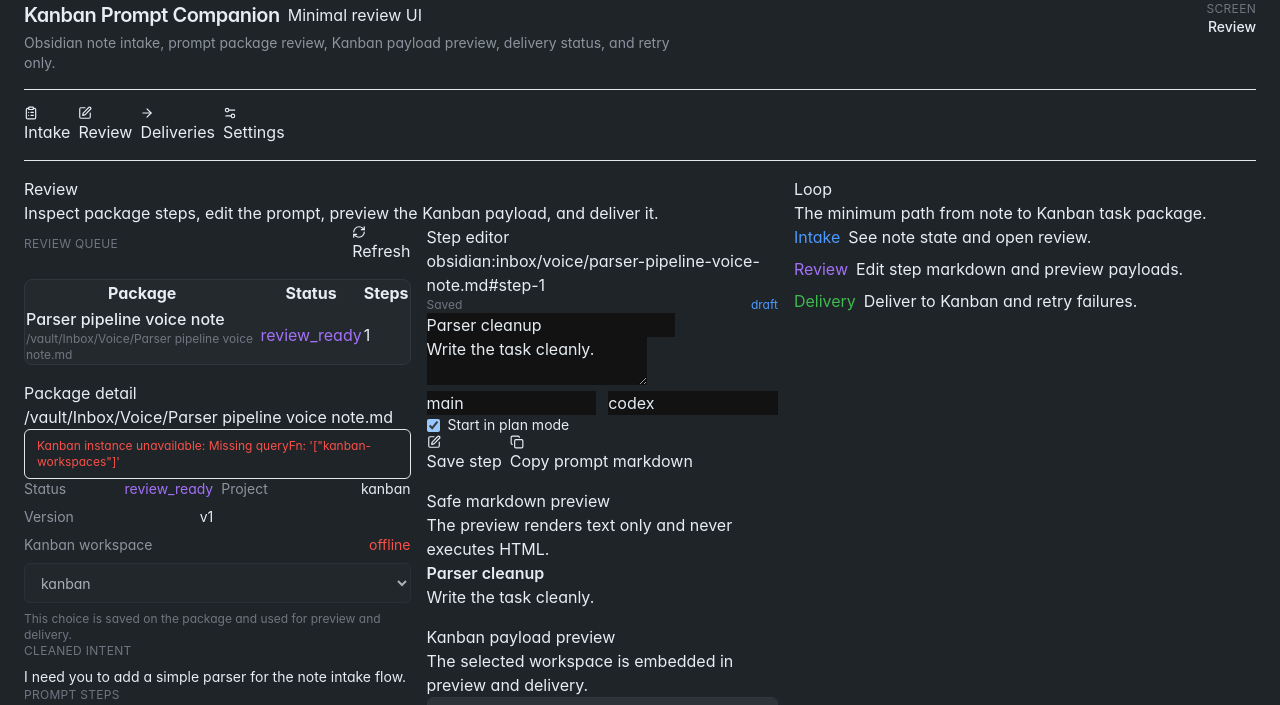
Test: phase 7 review and delivery loop › lets a user open review, edit, preview, and deliver a package
Replace the text in the text box named "Prompt markdown" with "Rewrite the parser step with the updated constraint." at (536, 361), box left=426, top=337, right=646, bottom=385
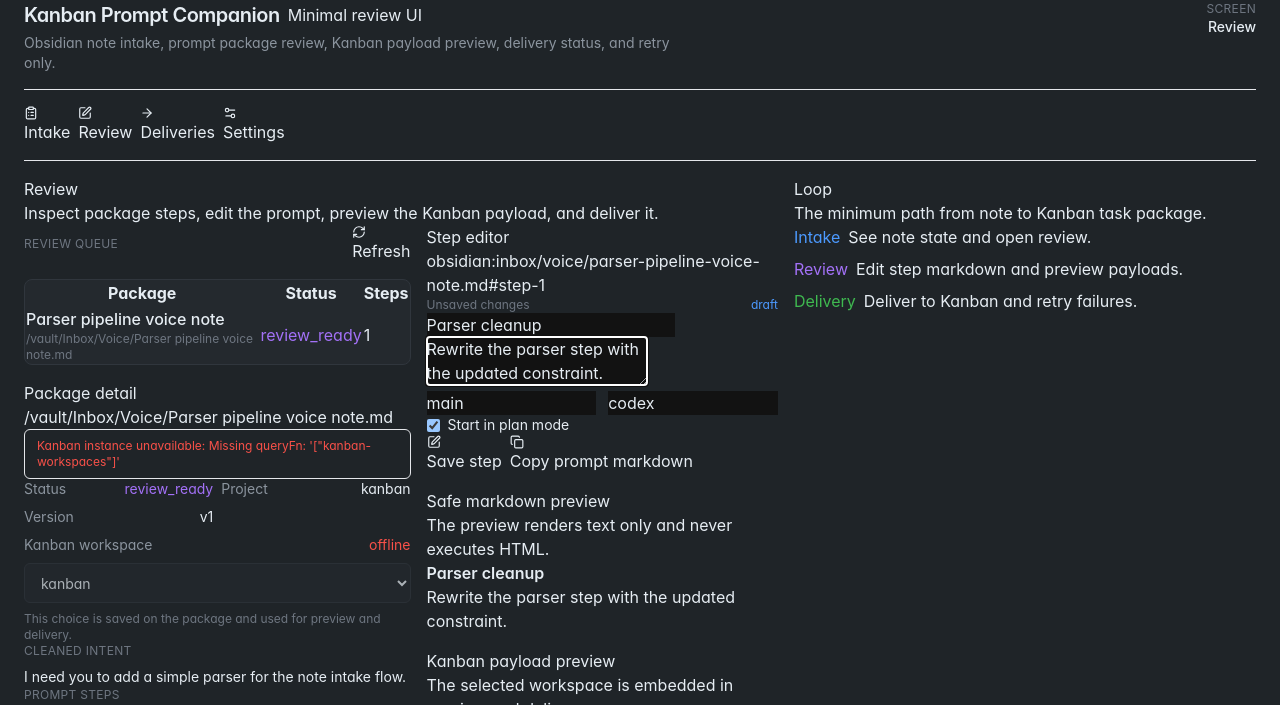
Click the button "Save step".
click(464, 454)  # box left=426, top=435, right=502, bottom=473
(page scrolled)
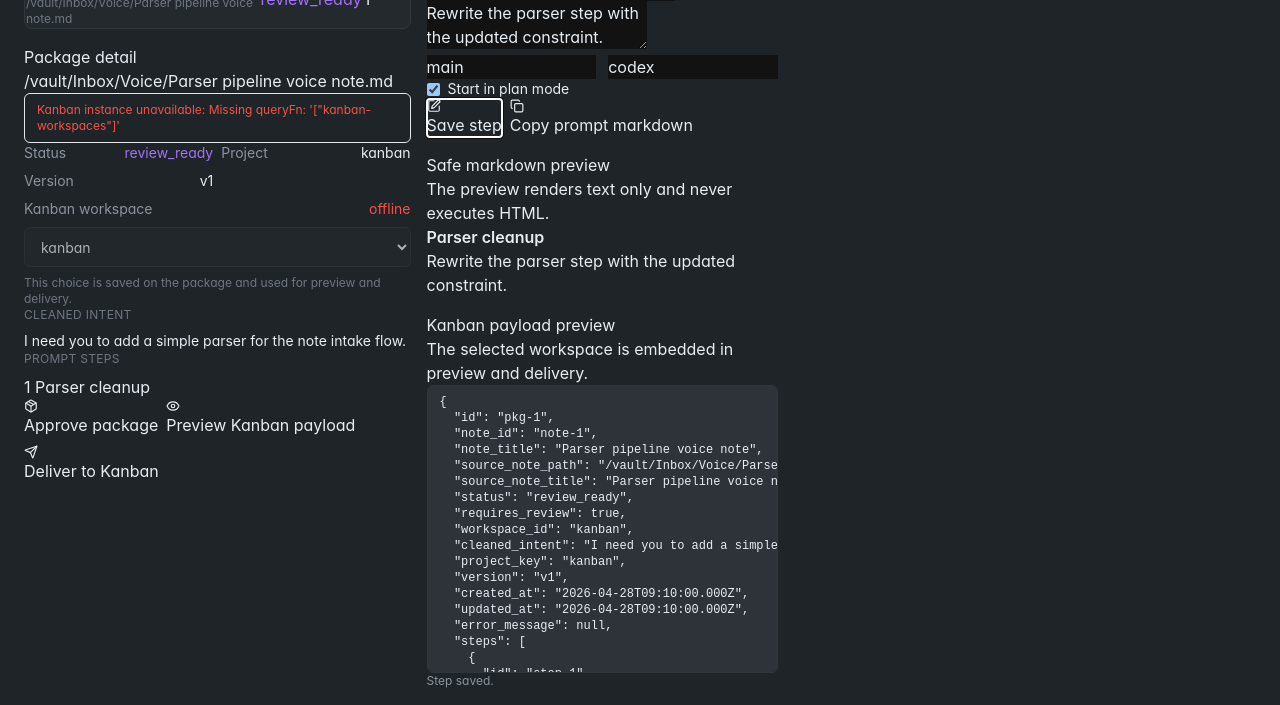
Click the button "Preview Kanban payload".
click(261, 418)  # box left=166, top=399, right=355, bottom=437
(page scrolled)
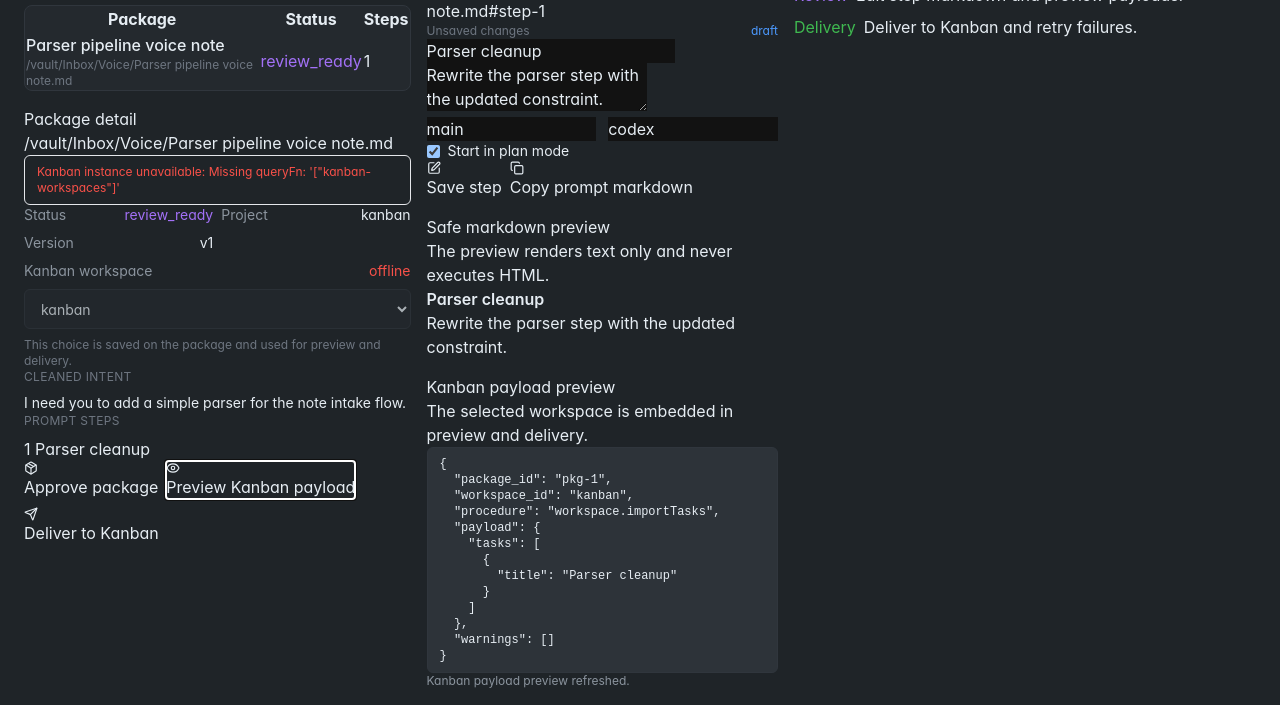
Now the text "workspace.importTasks" is shown, box left=440, top=457, right=720, bottom=663
Click the button "Deliver to Kanban".
click(91, 526)  # box left=24, top=507, right=159, bottom=545
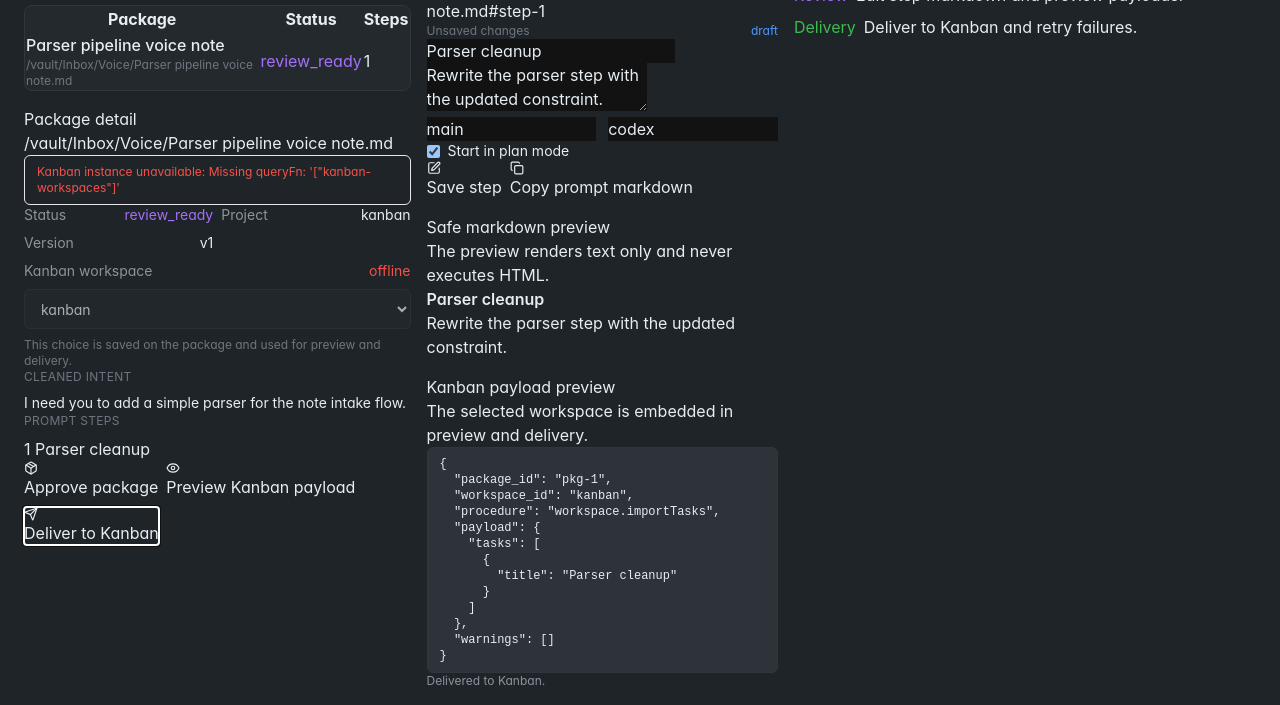
Now the text "Delivered to Kanban." is shown, box left=426, top=673, right=545, bottom=688
